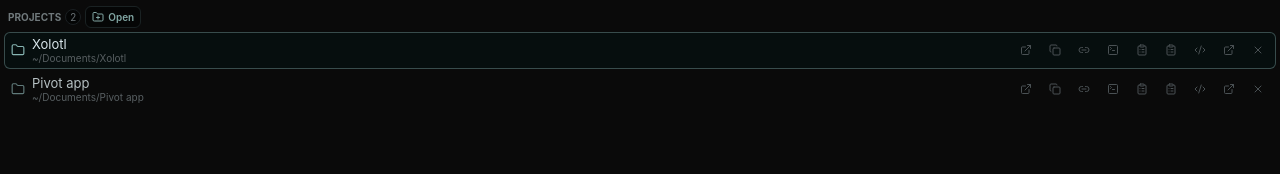
Test: ProjectsSection › shows recovery guidance when revealing a project fails
Click the button named "Reveal Xolotl in Finder": (1026, 50) [1015,39,1037,61]
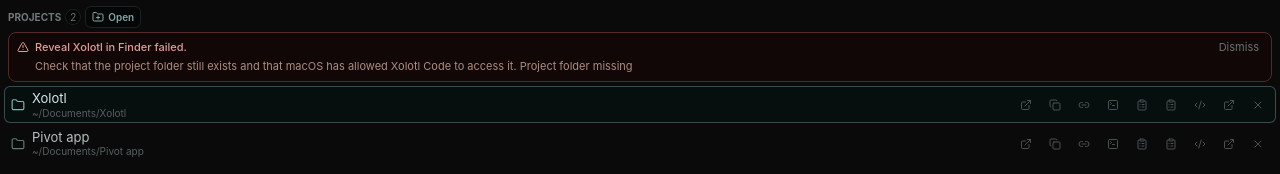
Expected: the text "Reveal Xolotl in Finder failed." is shown, [35,40,187,54]
Expected: the text "Project folder missing" is shown, [35,58,633,72]
